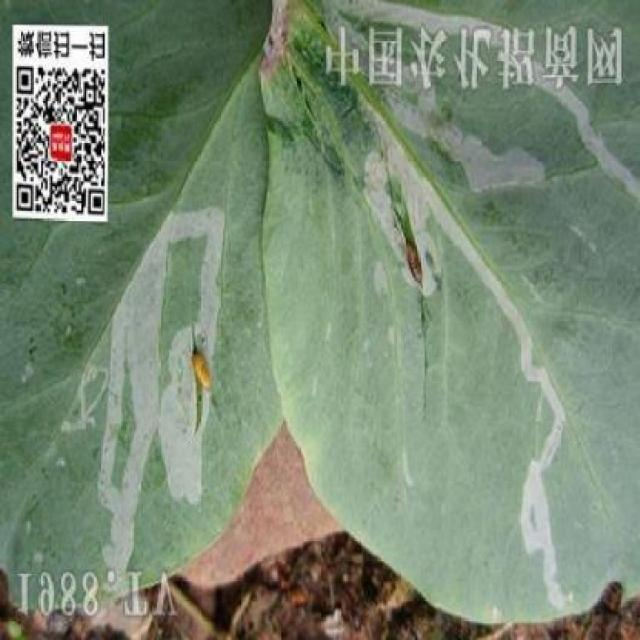whorl-maggot: (183, 340, 219, 403), (397, 234, 432, 295)
